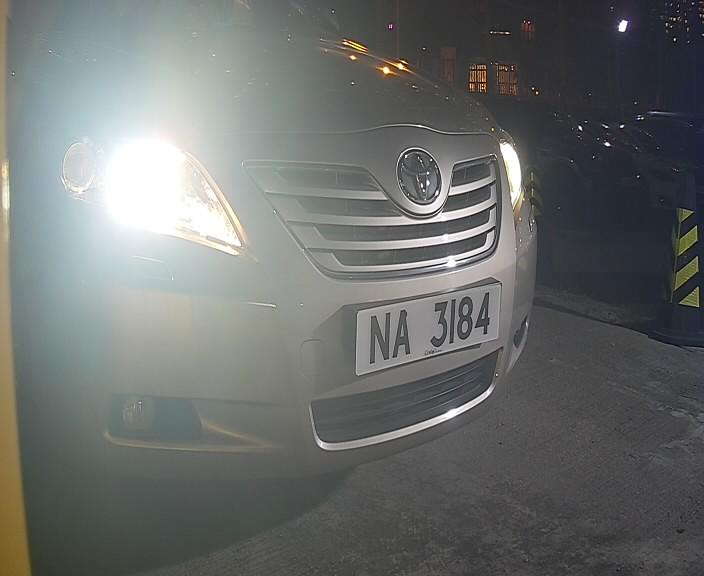License Plate: (349, 265, 503, 384)
